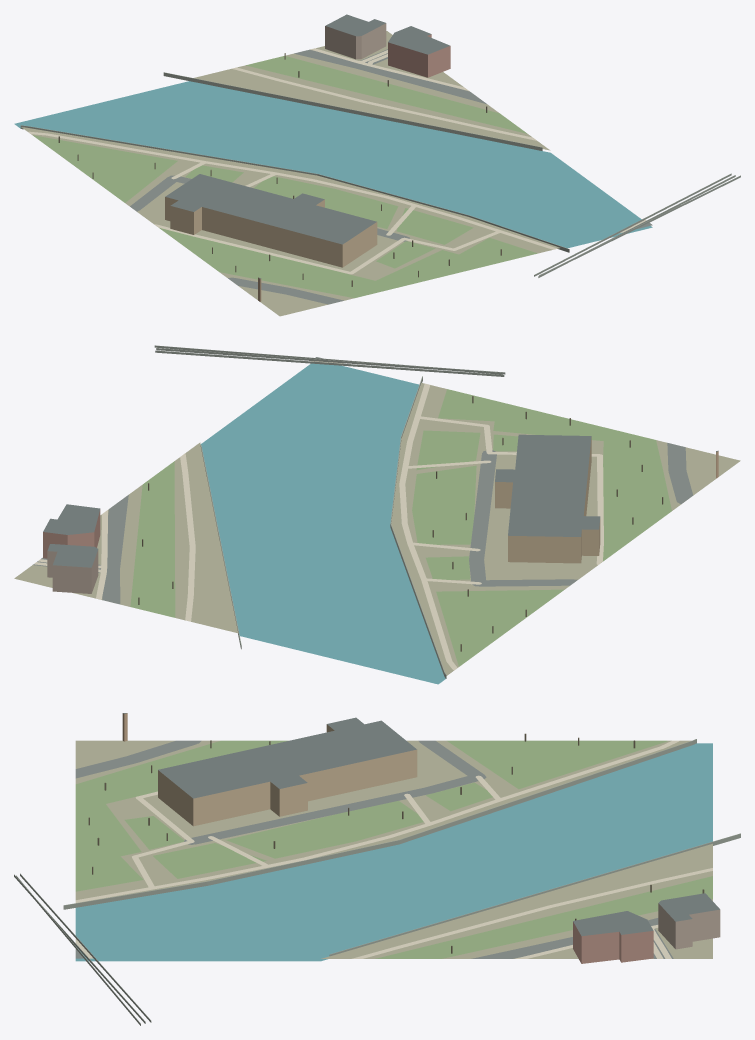
Rendered from sector--4_-6.glb.
The picture shows the model from 3 angles, top to bottom: view 1: azimuth 30°, elevation 25°; view 2: azimuth 150°, elevation 25°; view 3: azimuth 270°, elevation 25°; orthographic projection. The views are drawn at different scales.
Parts seen in each view (by area): view 1: -4:-6-water, -4:-6-park, -4:-6-ground, -4:-6-facade, -4:-6-roof, -4:-6-paving, -4:-6-bank, -4:-6-road; view 2: -4:-6-water, -4:-6-park, -4:-6-ground, -4:-6-roof, -4:-6-facade, -4:-6-paving, -4:-6-road, -4:-6-bank; view 3: -4:-6-water, -4:-6-park, -4:-6-ground, -4:-6-facade, -4:-6-roof, -4:-6-paving, -4:-6-bank, -4:-6-road.
Boxes of the visible parts, x1=… form: -4:-6-water: x1=14, y1=81, x2=652, y2=248; -4:-6-park: x1=33, y1=56, x2=537, y2=298; -4:-6-ground: x1=21, y1=31, x2=559, y2=316; -4:-6-facade: x1=165, y1=23, x2=450, y2=301; -4:-6-roof: x1=165, y1=14, x2=449, y2=278; -4:-6-paving: x1=28, y1=48, x2=646, y2=274; -4:-6-bank: x1=20, y1=72, x2=740, y2=277; -4:-6-road: x1=130, y1=49, x2=652, y2=304; -4:-6-water: x1=200, y1=363, x2=445, y2=684; -4:-6-park: x1=130, y1=389, x2=671, y2=666; -4:-6-ground: x1=14, y1=383, x2=740, y2=675; -4:-6-roof: x1=43, y1=434, x2=718, y2=567; -4:-6-facade: x1=43, y1=437, x2=718, y2=593; -4:-6-paving: x1=34, y1=361, x2=603, y2=670; -4:-6-road: x1=33, y1=357, x2=693, y2=604; -4:-6-bank: x1=154, y1=345, x2=505, y2=678; -4:-6-water: x1=75, y1=743, x2=712, y2=961; -4:-6-park: x1=75, y1=740, x2=712, y2=958; -4:-6-ground: x1=75, y1=740, x2=712, y2=958; -4:-6-facade: x1=122, y1=713, x2=720, y2=963; -4:-6-roof: x1=123, y1=713, x2=719, y2=936; -4:-6-paving: x1=75, y1=740, x2=712, y2=958; -4:-6-bank: x1=14, y1=739, x2=740, y2=1025; -4:-6-road: x1=75, y1=740, x2=673, y2=958.
Size of the model in its own units: 212 by 10.45 by 228.
